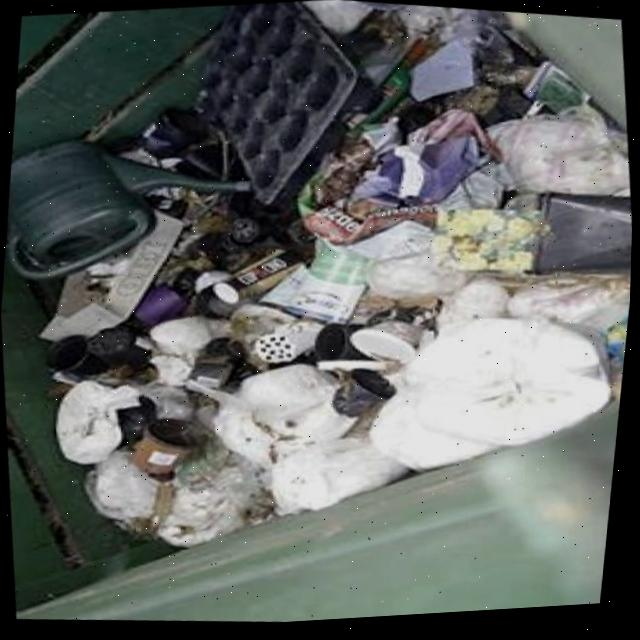Cardboard: (41, 211, 182, 336)
Garbage: (1, 2, 633, 612)
Plastic_Bag: (370, 317, 608, 467), (213, 362, 355, 463), (155, 433, 273, 544), (487, 104, 627, 192), (270, 436, 406, 510), (56, 379, 140, 461), (367, 252, 471, 297)
Plastic_Container: (6, 139, 249, 277), (197, 0, 358, 201)
